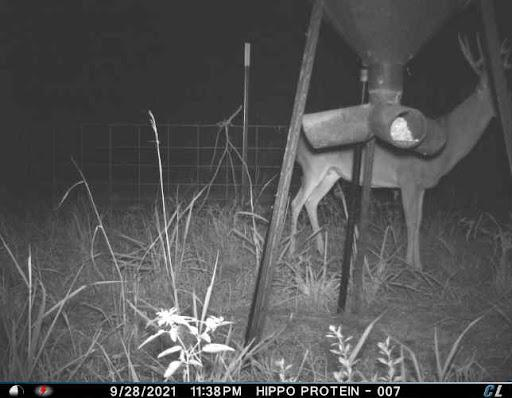Deer: (282, 26, 512, 279)
